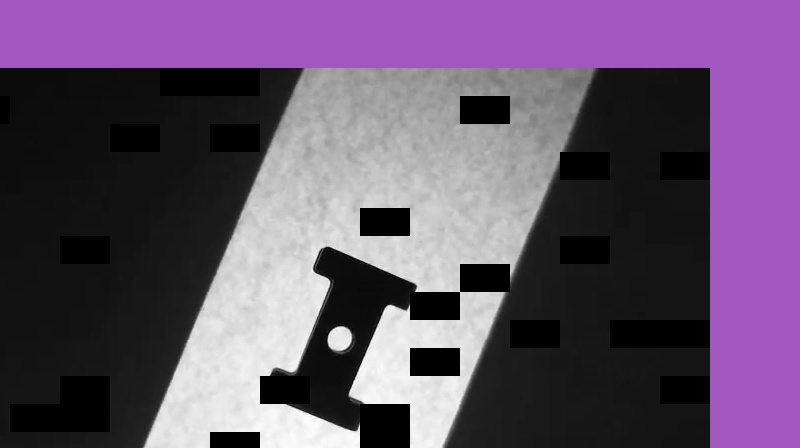O002: (259, 243, 419, 435)
